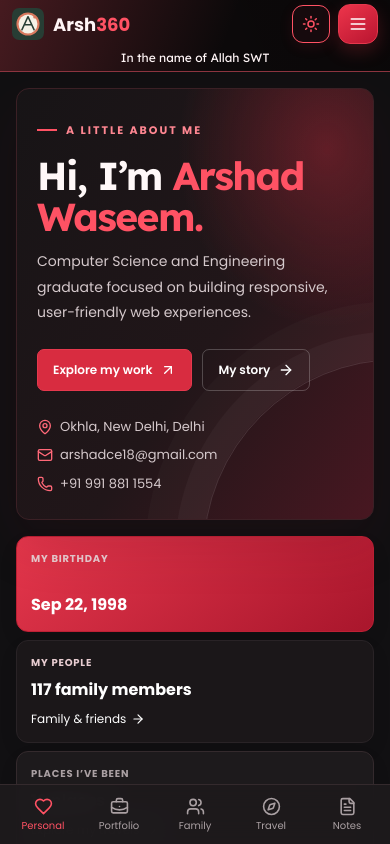
hamburger opens one navigation drawer and closes it after navigation
This screenshot has width=390, height=844.
Click the button named "Toggle navigation": (358, 24) [338,4,378,44]
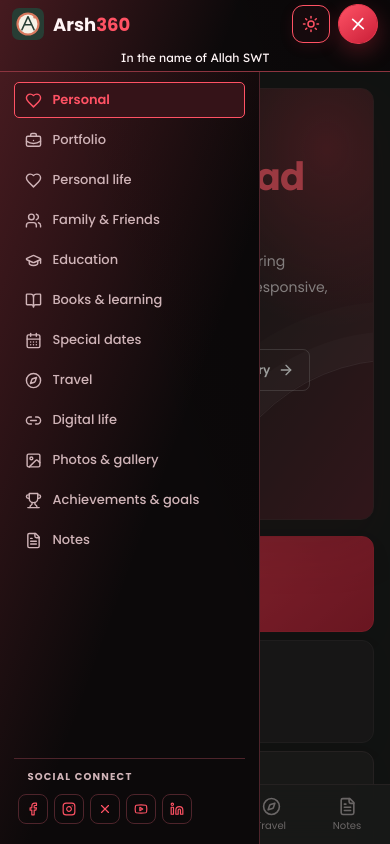
Result: the 1st button named "Close navigation" is shown at [337,3,379,45]
Click the link "Portfolio": (66, 140) [25,130,106,149]
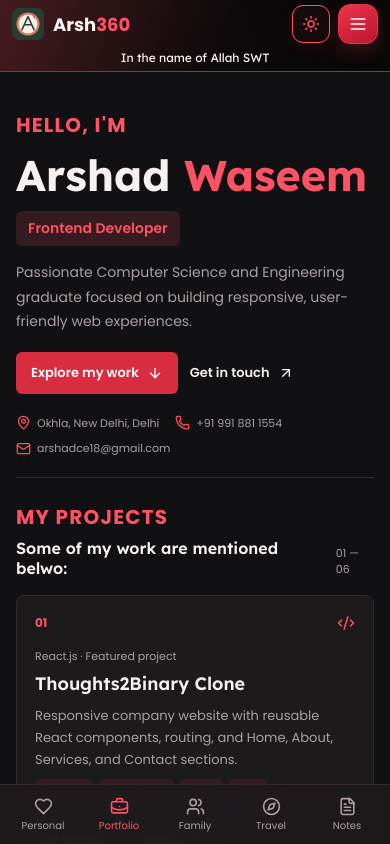
Result: the button named "Toggle navigation" is collapsed at [338,4,378,44]
